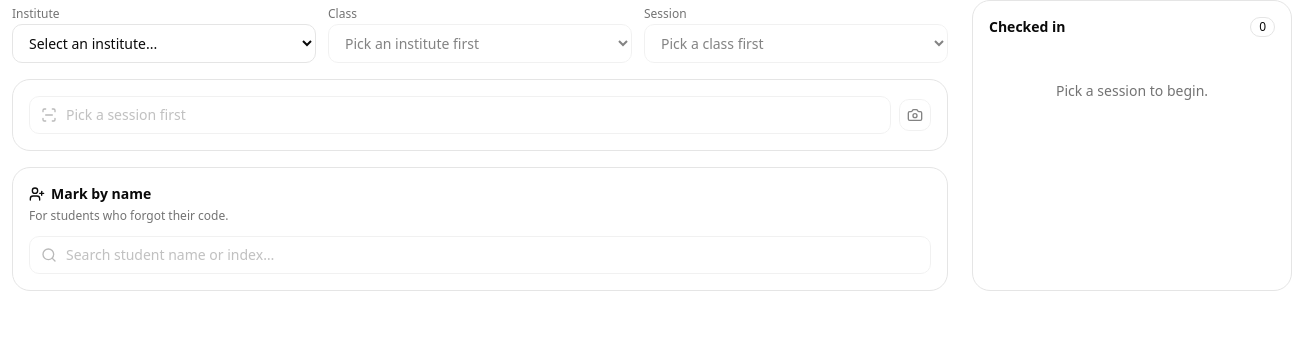
it: StaffScanner — manual mark › searches students and marks the chosen one via /attendance/manual
Select "Nugegoda Centre · Nugegoda" in the dropdown named "Select institute" at (164, 44), box [12,24,316,63]
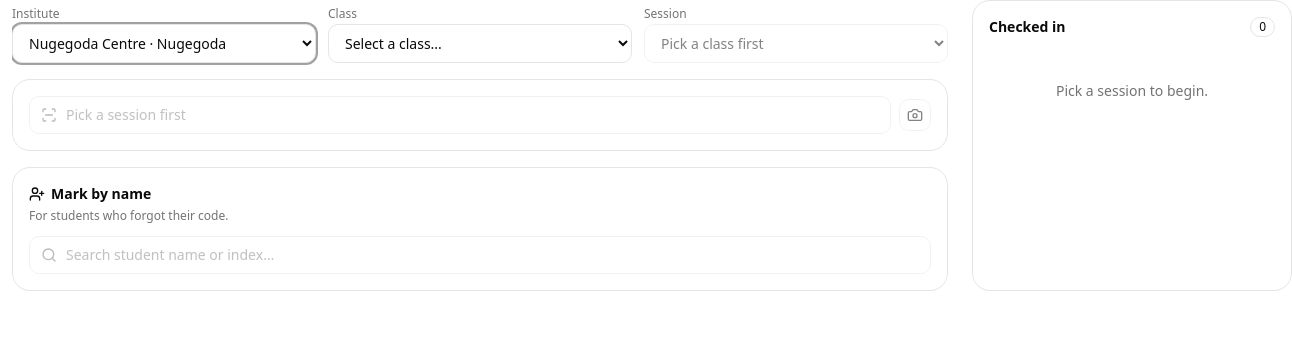
Select "Physics · 2026" in the dropdown named "Select class" at (480, 44), box [328,24,632,63]
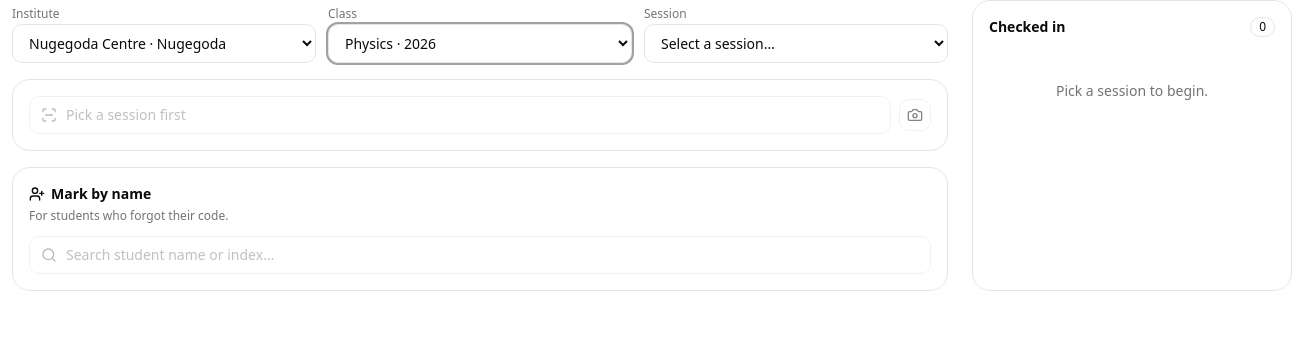
Select "Nov 21, 2026 · Today · Lecture 1" in the dropdown named "Select session" at (796, 44), box [644,24,948,63]
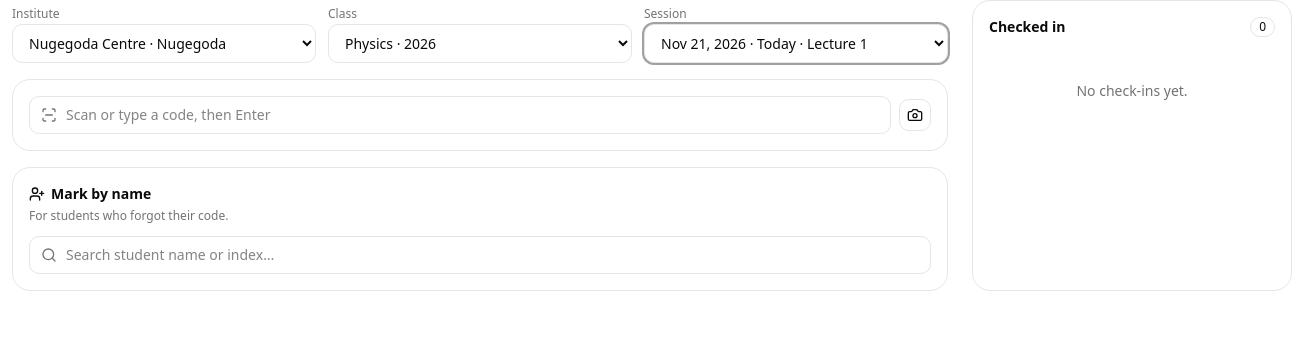
Type "Kamal" into the field labelled "Search student" at (480, 255), box [29,236,931,274]
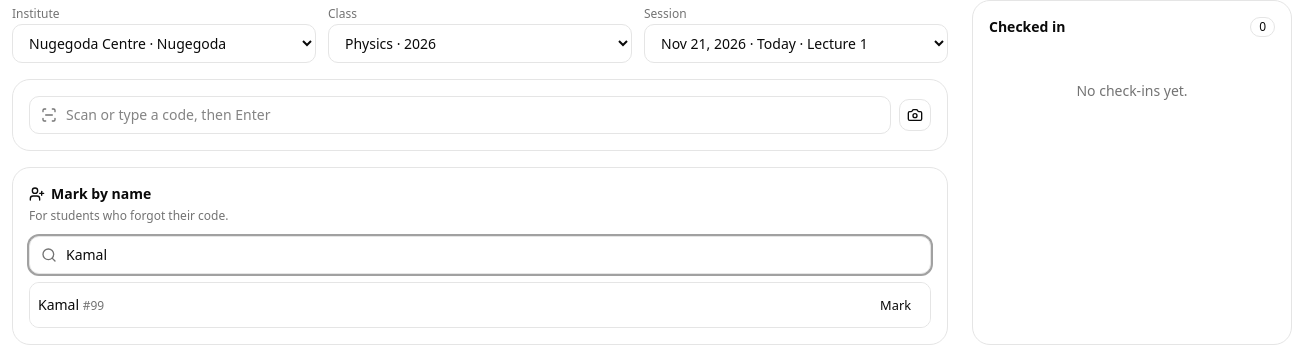
Click the button "Mark" at (896, 305), box [869,291,922,319]
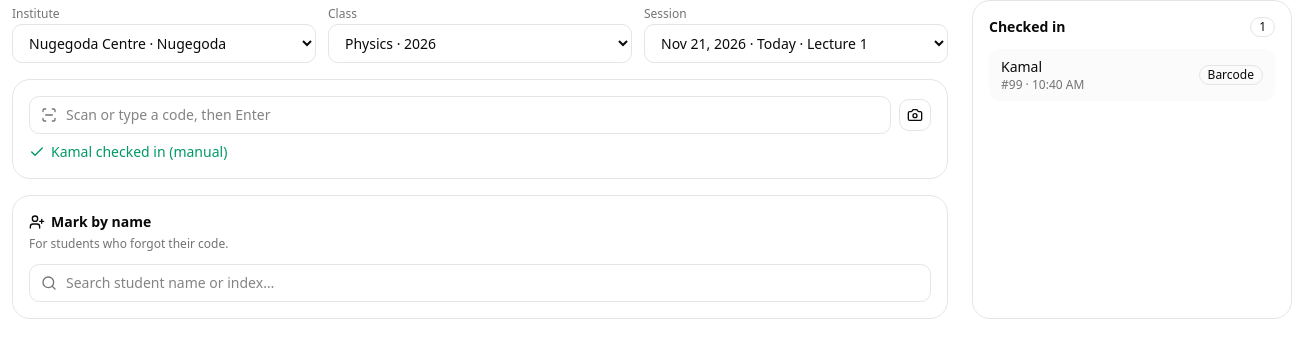
Expected: the text "Kamal" is shown, [1001,57,1042,76]
